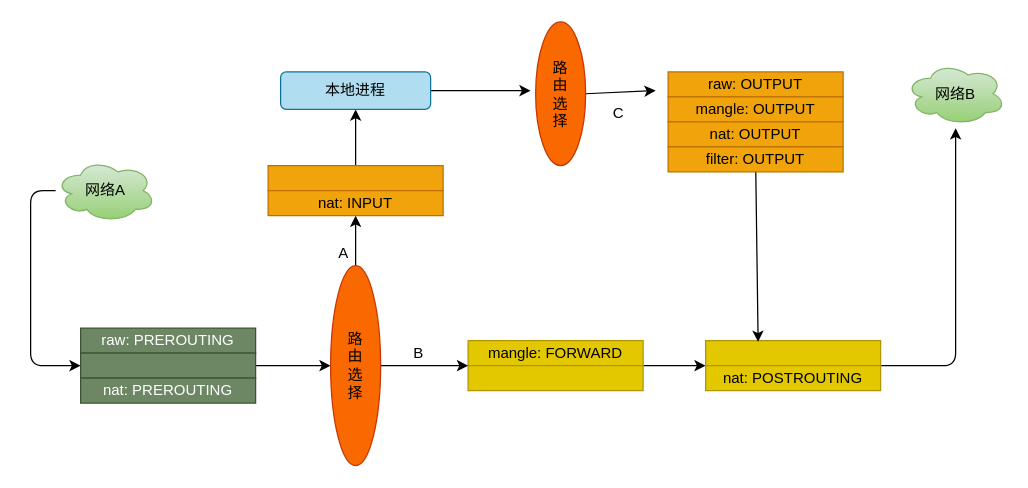
Image size: 1028x488. Some labels were removed from this diagram. Here are the shapes that lost their labels. From the top down, the centre of each, then its label:
At point (355, 177): "mangle: INPUT".
At point (167, 365): "mangle: PREROUTING".
At point (792, 352): "mangle: POSTROUTING".
At point (555, 377): "filter: PREROUTING".
